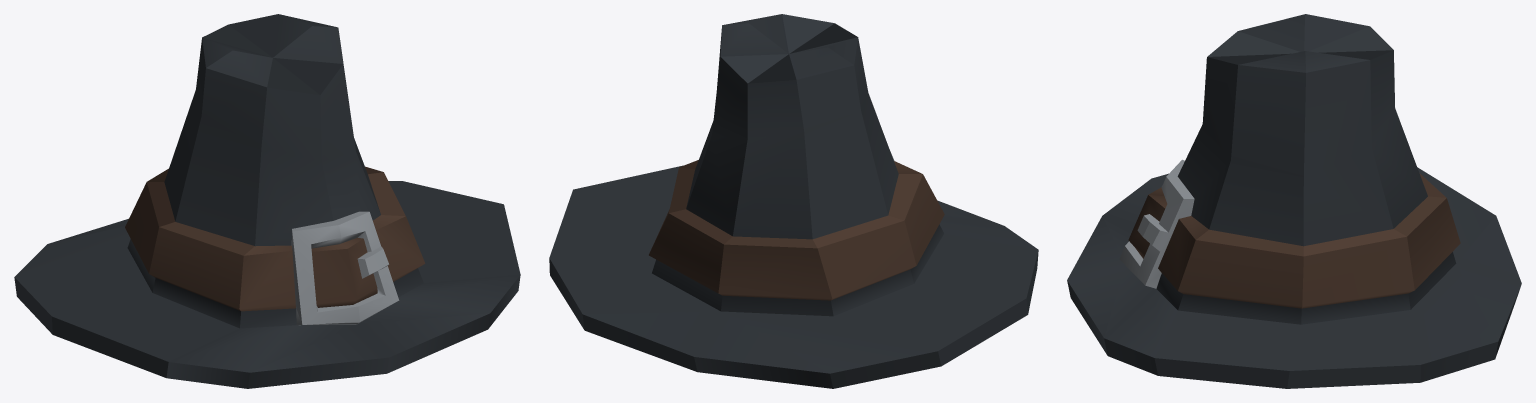
Rendered from Chr_HeadCoverings_Base_Hair_09_Static.fbx.
The picture shows the model from 3 angles, left to right: view 1: azimuth 30°, elevation 25°; view 2: azimuth 150°, elevation 25°; view 3: azimuth 270°, elevation 25°; orthographic projection. The views are drawn at different scales.
Parts seen in each view (by area): view 1: Chr_HeadCoverings_Base_Hair_09_Static; view 2: Chr_HeadCoverings_Base_Hair_09_Static; view 3: Chr_HeadCoverings_Base_Hair_09_Static.
Boxes of the visible parts, box(x1,y1,x2,y2) form: Chr_HeadCoverings_Base_Hair_09_Static: box(14, 14, 520, 388); Chr_HeadCoverings_Base_Hair_09_Static: box(549, 14, 1038, 388); Chr_HeadCoverings_Base_Hair_09_Static: box(1067, 14, 1521, 388).
Bounding box in the file's own units: 0.5374 × 0.2993 × 0.4477.
